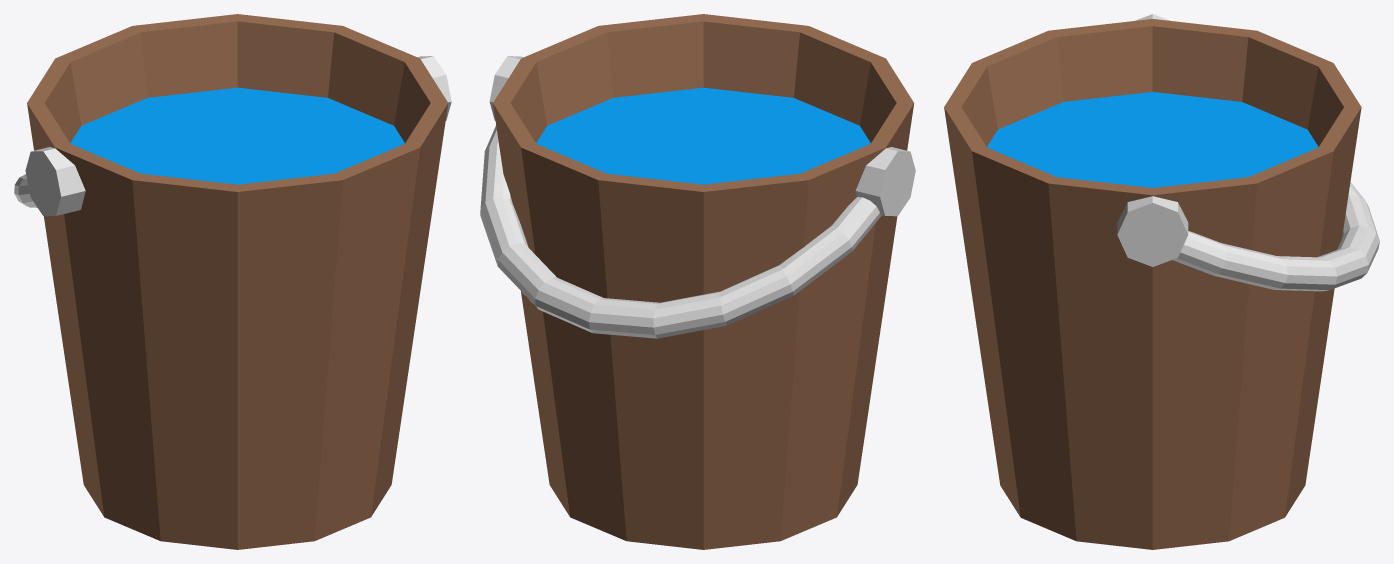
The model's file is waterBucket-filled.fbx.
The picture shows the model from 3 angles, left to right: view 1: azimuth 30°, elevation 25°; view 2: azimuth 150°, elevation 25°; view 3: azimuth 270°, elevation 25°; orthographic projection.
Parts seen in each view (by area): view 1: SeauPlein; view 2: SeauPlein; view 3: SeauPlein.
Part boxes in pixels (<box>): SeauPlein: <box>14,14,451,549</box>; SeauPlein: <box>480,14,915,549</box>; SeauPlein: <box>944,14,1379,549</box>.
Bounding box in the file's own units: 214 × 200 × 209.
